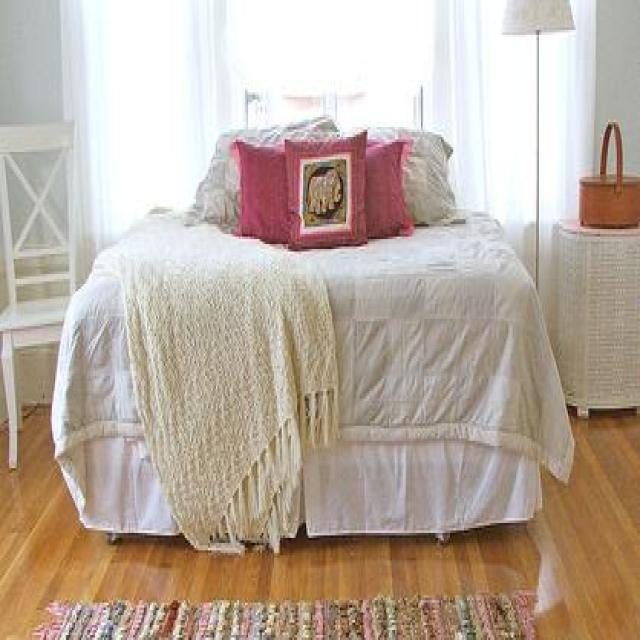bed: (51, 82, 574, 553)
